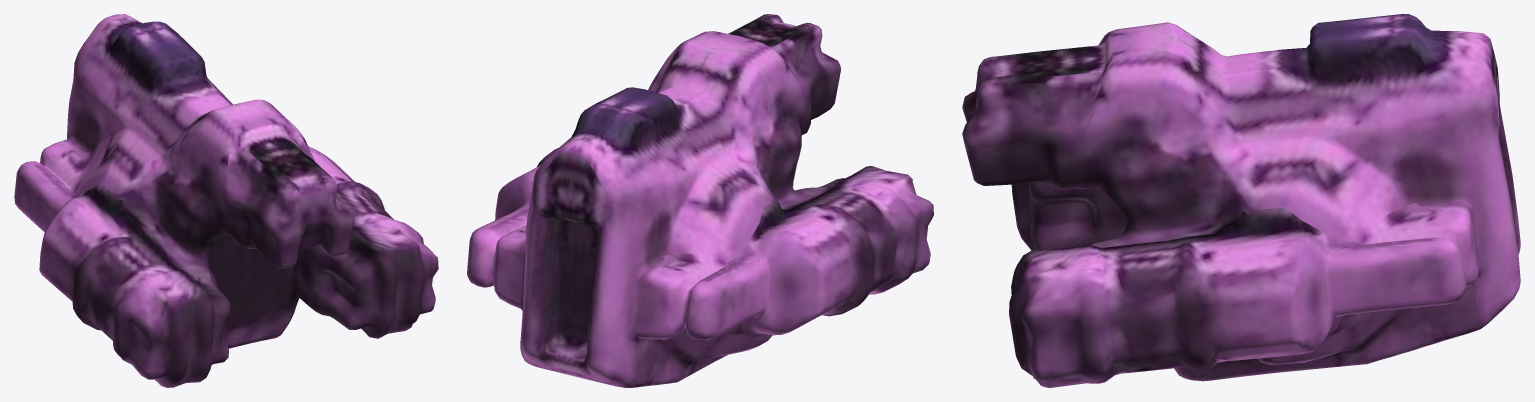
File: placeholder_phenom.glb
3 views of the same model, side by side, from view 1: azimuth 30°, elevation 25°; view 2: azimuth 150°, elevation 25°; view 3: azimuth 270°, elevation 25° (orthographic). The views are drawn at different scales.
Parts seen in each view (by area): view 1: placeholder_phenom; view 2: placeholder_phenom; view 3: placeholder_phenom.
Boxes of the visible parts, left/top/right/bottom form: placeholder_phenom: left=14, top=14, right=438, bottom=387; placeholder_phenom: left=467, top=14, right=933, bottom=387; placeholder_phenom: left=962, top=14, right=1520, bottom=387.
Size of the model in its own units: 0.0813 by 0.0662 by 0.1009.
1 material, 1 textured.
